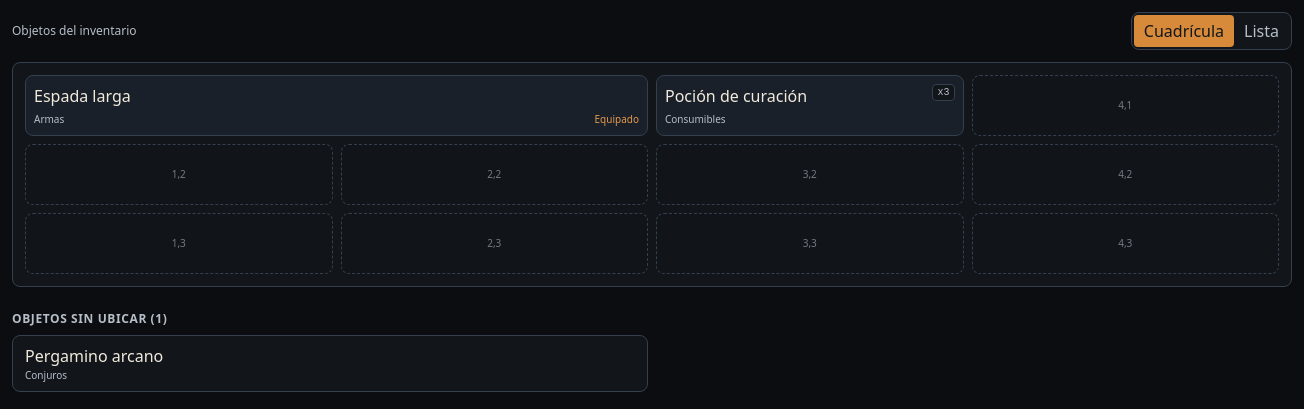
InventoryGrid — spatial presentation and fallback › supports toggling between spatial grid and list view
The image size is (1304, 409).
Expected: the table is shown, [12, 62, 1292, 287]
Note: Click "Lista"
Click the button "Lista" at (1262, 31), box [1234, 15, 1289, 47]
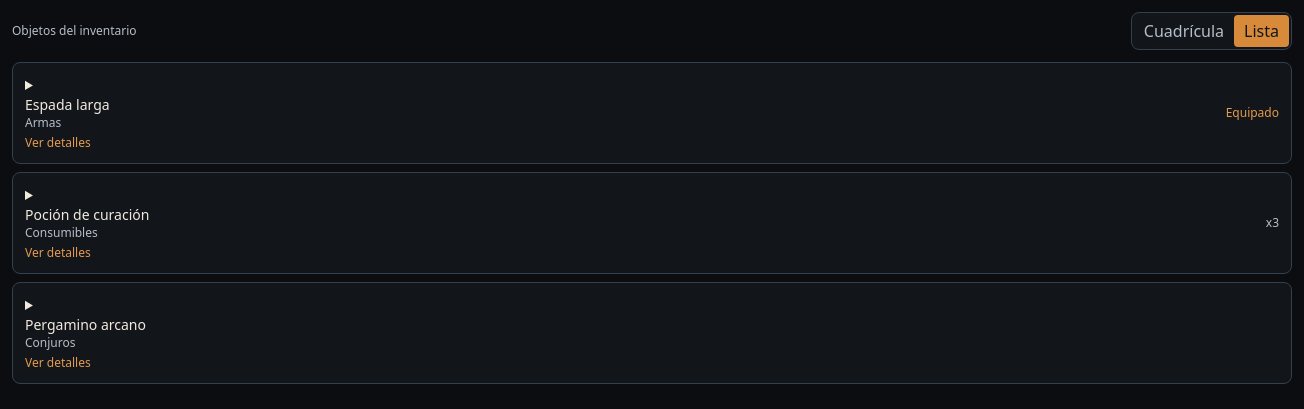
Result: the list named "Objetos del inventario" is shown
Note: Click "Cuadrícula"
Click the button "Cuadrícula" at (1184, 31), box [1134, 15, 1234, 47]
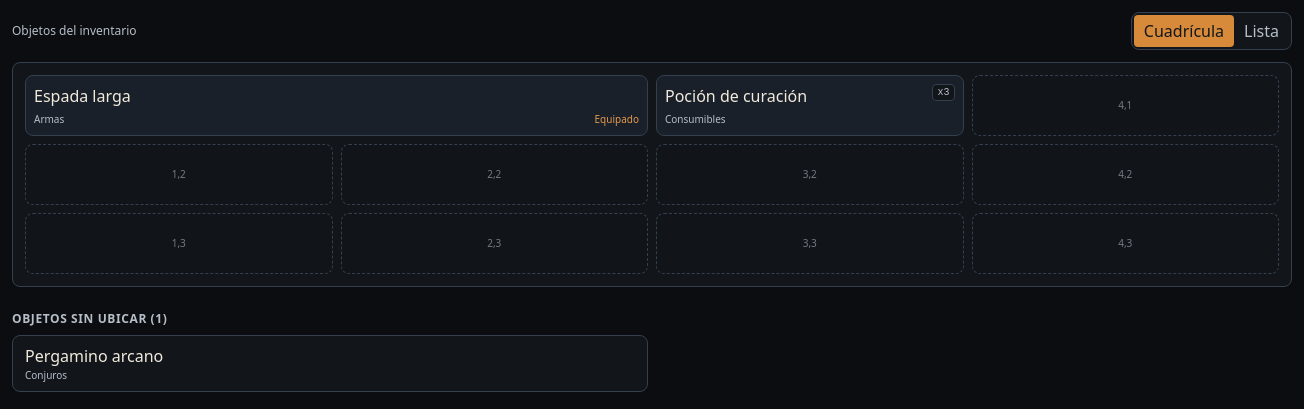
Result: the table is shown at [12, 62, 1292, 287]
